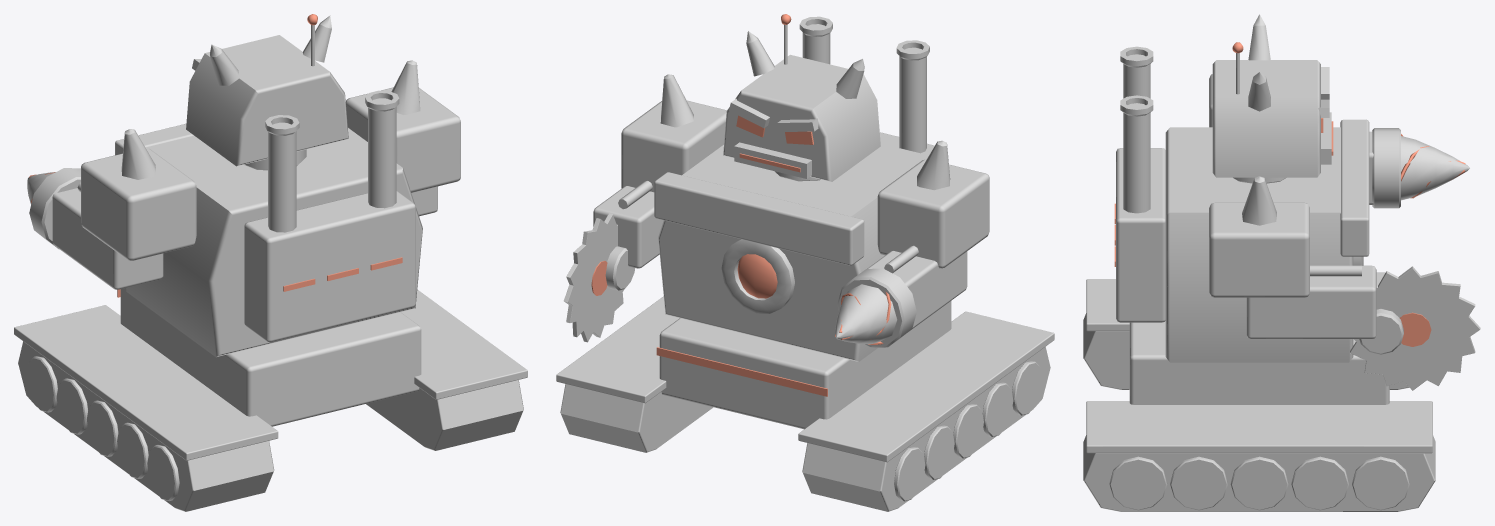
Rendered from BossMachine.glb.
The picture shows the model from 3 angles, left to right: view 1: azimuth 30°, elevation 25°; view 2: azimuth 150°, elevation 25°; view 3: azimuth 270°, elevation 25°; orthographic projection. The views are drawn at different scales.
Parts seen in each view (by area): view 1: Body, Glow; view 2: Body, Glow; view 3: Body, Glow.
Part boxes in pixels (bbox=[...]): Body: bbox=[14, 15, 527, 511]; Glow: bbox=[29, 14, 402, 297]; Body: bbox=[556, 16, 1054, 511]; Glow: bbox=[591, 14, 891, 396]; Body: bbox=[1083, 14, 1480, 511]; Glow: bbox=[1114, 42, 1465, 346].
Bounding box in the file's own units: 27.5 × 30.9 × 27.5.
